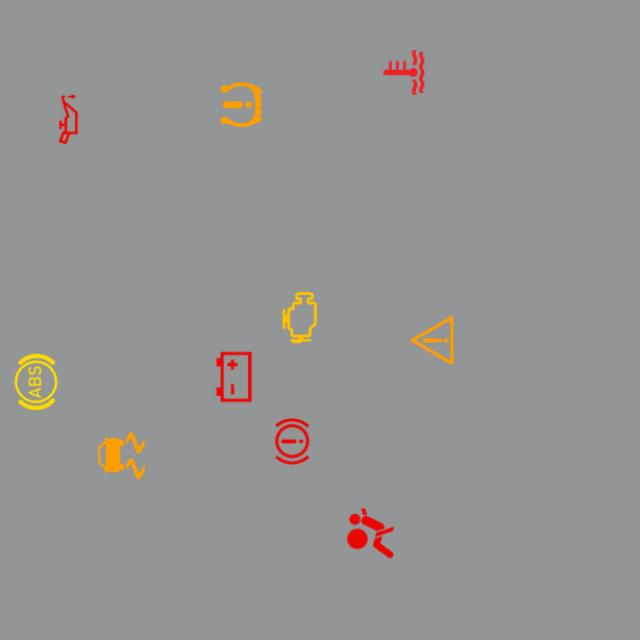Anti Lock Braking System: (5, 351, 67, 413)
Braking System Issue: (262, 410, 324, 472)
Charging System Issue: (203, 346, 265, 408)
Check Engine: (268, 286, 330, 348)
Electronic Stability Problem -ESP-: (90, 425, 152, 487)
Engine Overheating Warning Light: (373, 42, 435, 104)
Low Engine Oil Warning Light: (37, 88, 100, 150)
Low Tire Pressure Warning Light: (210, 74, 272, 136)
Master warning light: (401, 309, 463, 372)
SRS-Airbag: (339, 502, 402, 564)
